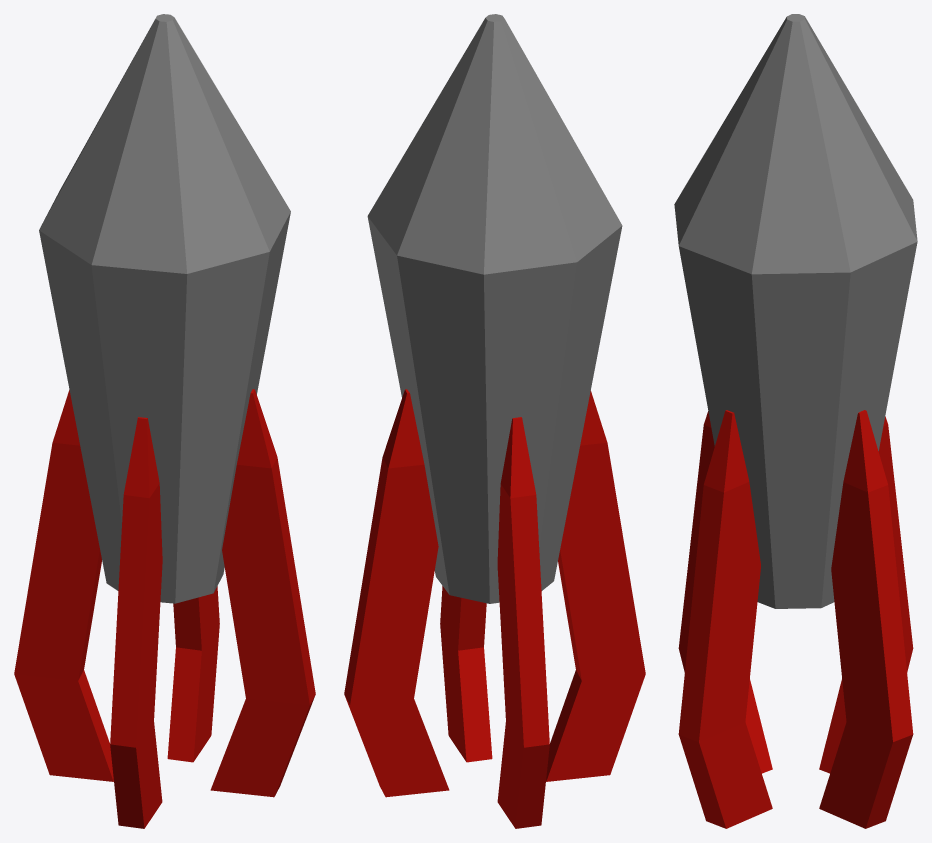
The model's file is Rakete.fbx.
3 views of the same model, side by side, from view 1: azimuth 30°, elevation 25°; view 2: azimuth 150°, elevation 25°; view 3: azimuth 270°, elevation 25° (orthographic).
Visible parts, largest first — view 1: Cube; view 2: Cube; view 3: Cube.
Part boxes in pixels (bbox=[...]): Cube: bbox=[14, 14, 315, 828]; Cube: bbox=[344, 14, 645, 828]; Cube: bbox=[674, 14, 917, 828].
Size of the model in its own units: 68.65 by 240 by 68.65.
